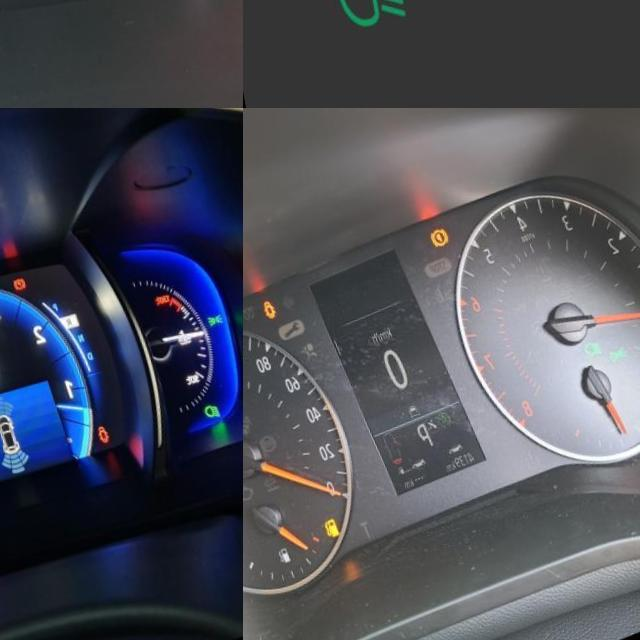Doors: (253, 302, 270, 324), (83, 435, 96, 454)
Low beam: (326, 0, 398, 32), (189, 416, 208, 435)
Low fuel level: (306, 520, 326, 545)
SideLamp: (195, 327, 214, 343)
